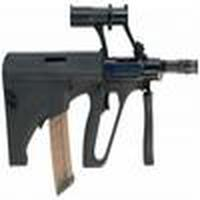gun: (3, 51, 196, 185)
